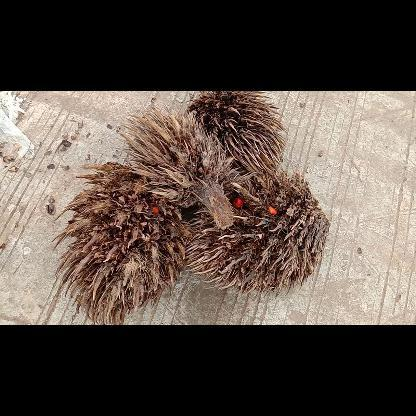Janjang kosong: (53, 162, 189, 324), (185, 172, 329, 324), (116, 103, 240, 229), (185, 91, 287, 175)
